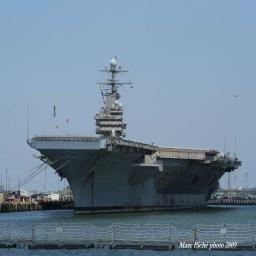Portanaves: (32, 57, 244, 217)
